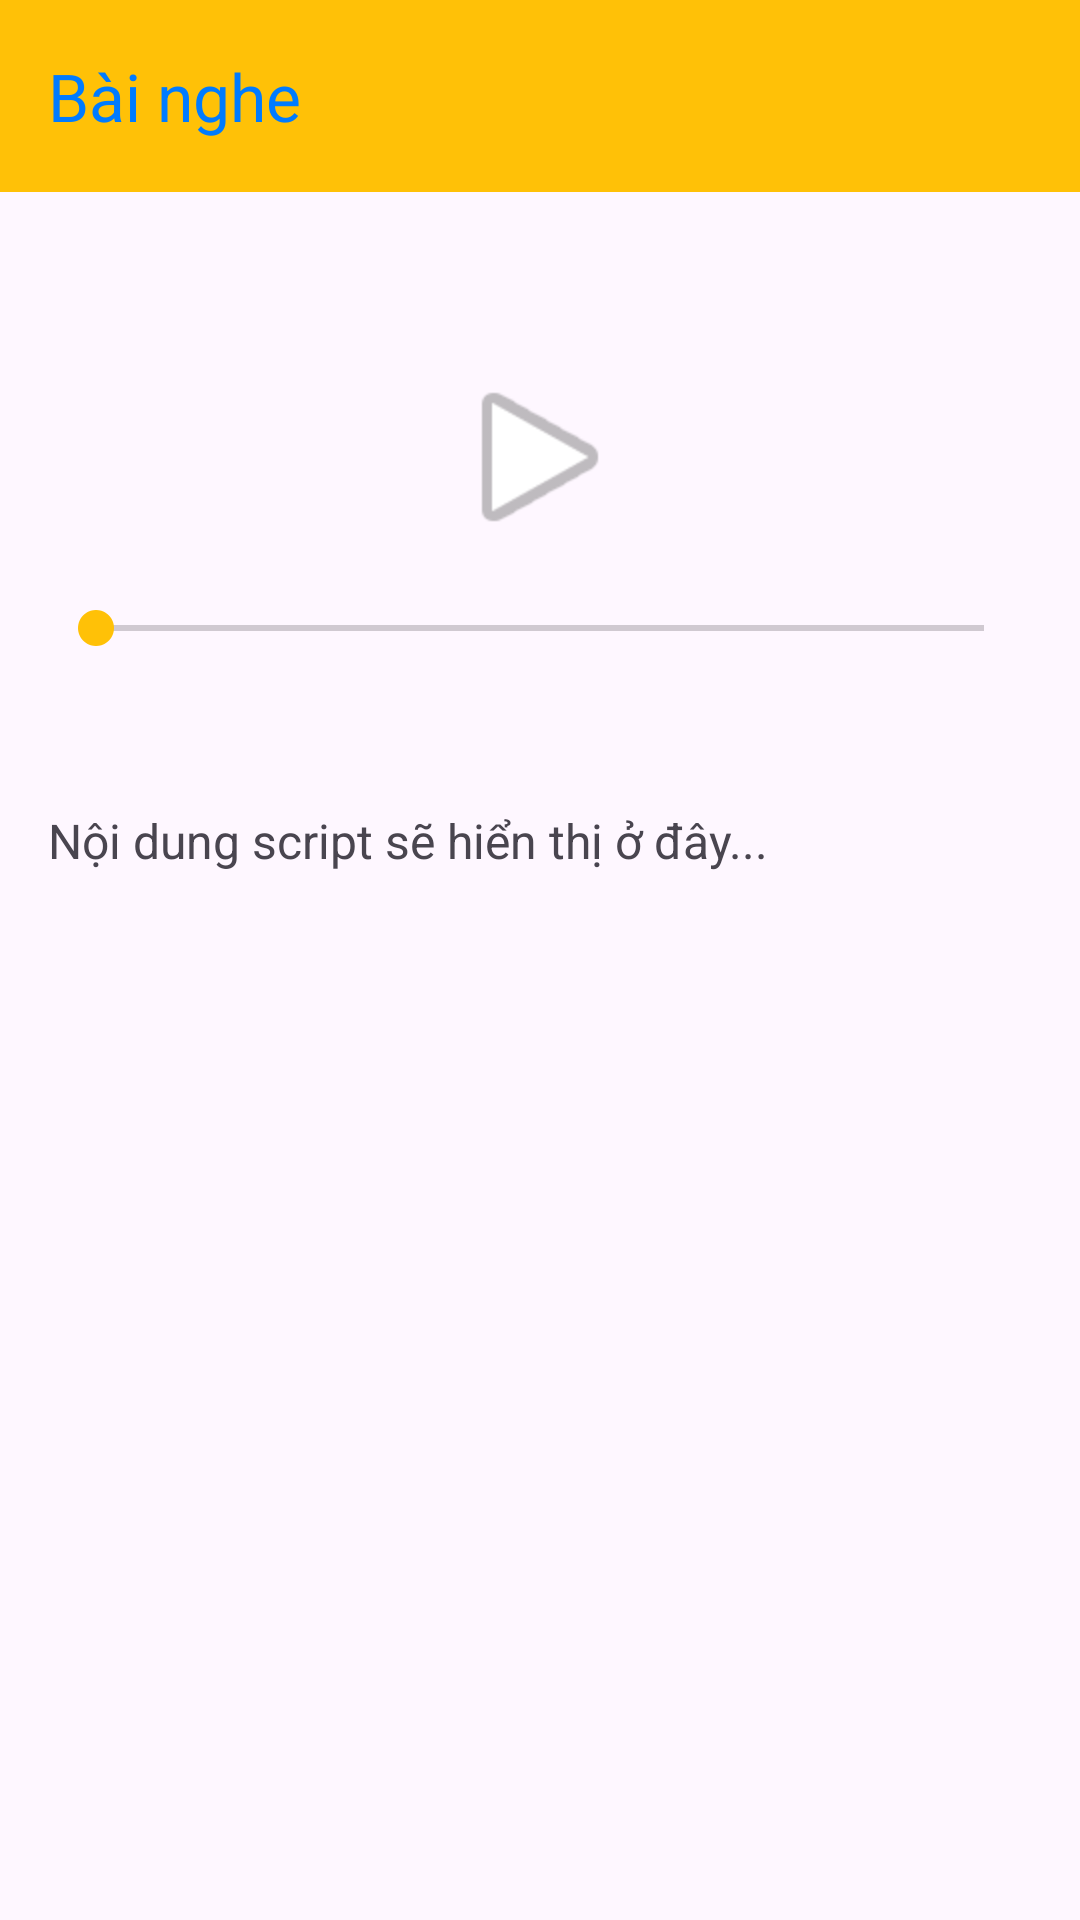

Locate icon controls on the screen. Image size 1080w x 1920h, boxes as (x1, y1, x2, y2).
play: (482, 393, 598, 521)
